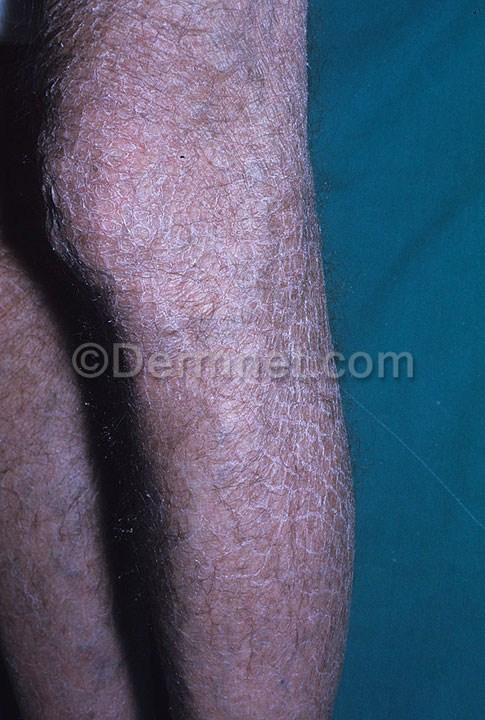xerosis 2: (42, 0, 345, 719)
